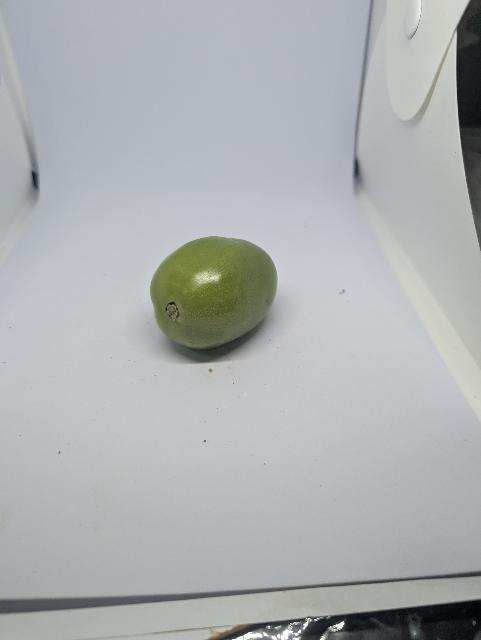green: (136, 226, 292, 378)
